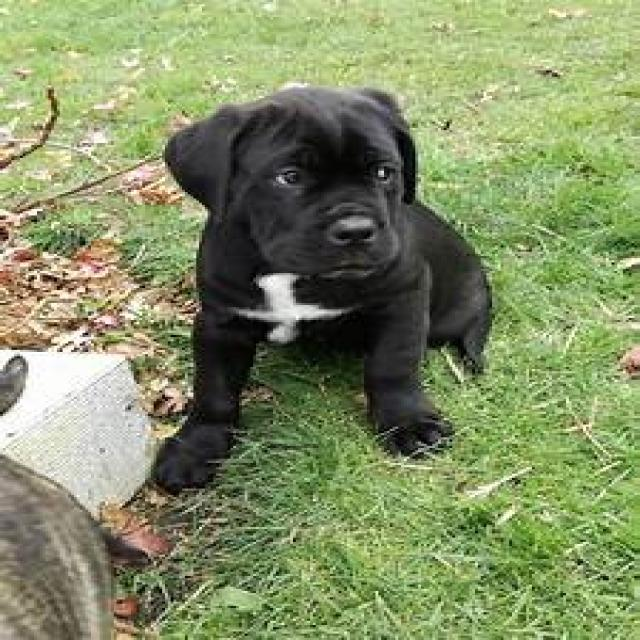dog: (154, 83, 492, 497)
